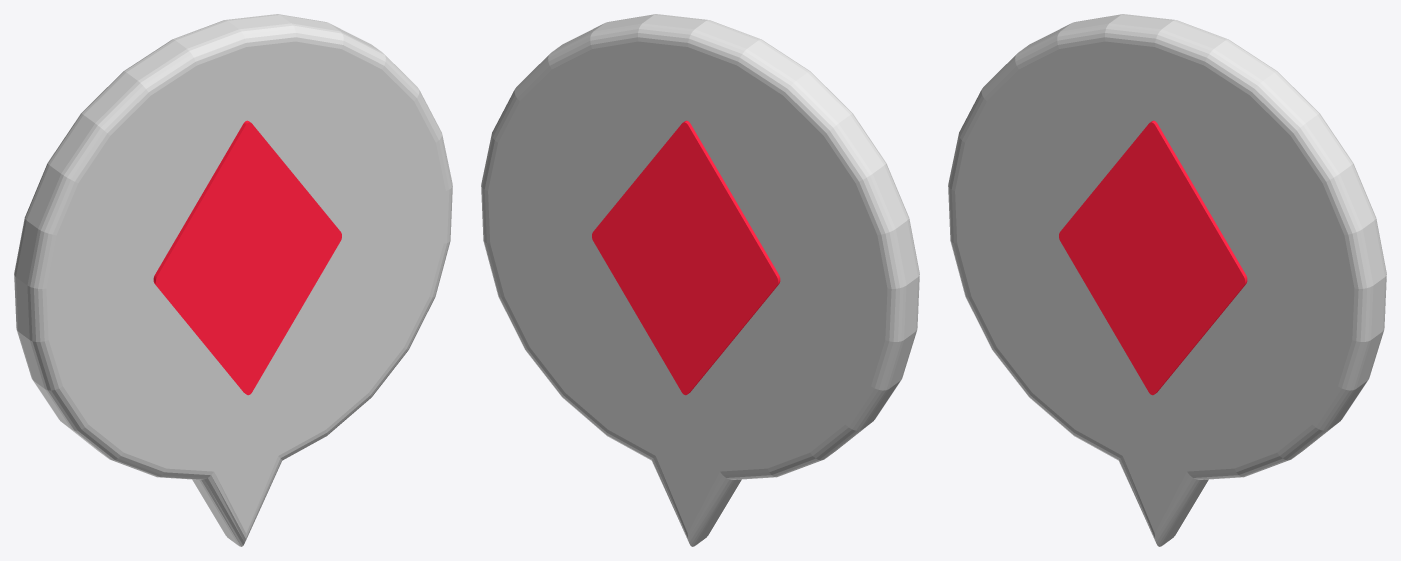
The model's file is diamonds.glb.
3 views of the same model, side by side, from view 1: azimuth 30°, elevation 25°; view 2: azimuth 150°, elevation 25°; view 3: azimuth 330°, elevation 25° (orthographic).
Parts seen in each view (by area): view 1: EmotionBubble; view 2: EmotionBubble; view 3: EmotionBubble.
Part boxes in pixels (bbox=[...]): EmotionBubble: bbox=[14, 14, 452, 546]; EmotionBubble: bbox=[481, 14, 919, 546]; EmotionBubble: bbox=[948, 14, 1386, 546].
Size of the model in its own units: 5.29 by 6.16 by 0.67.
